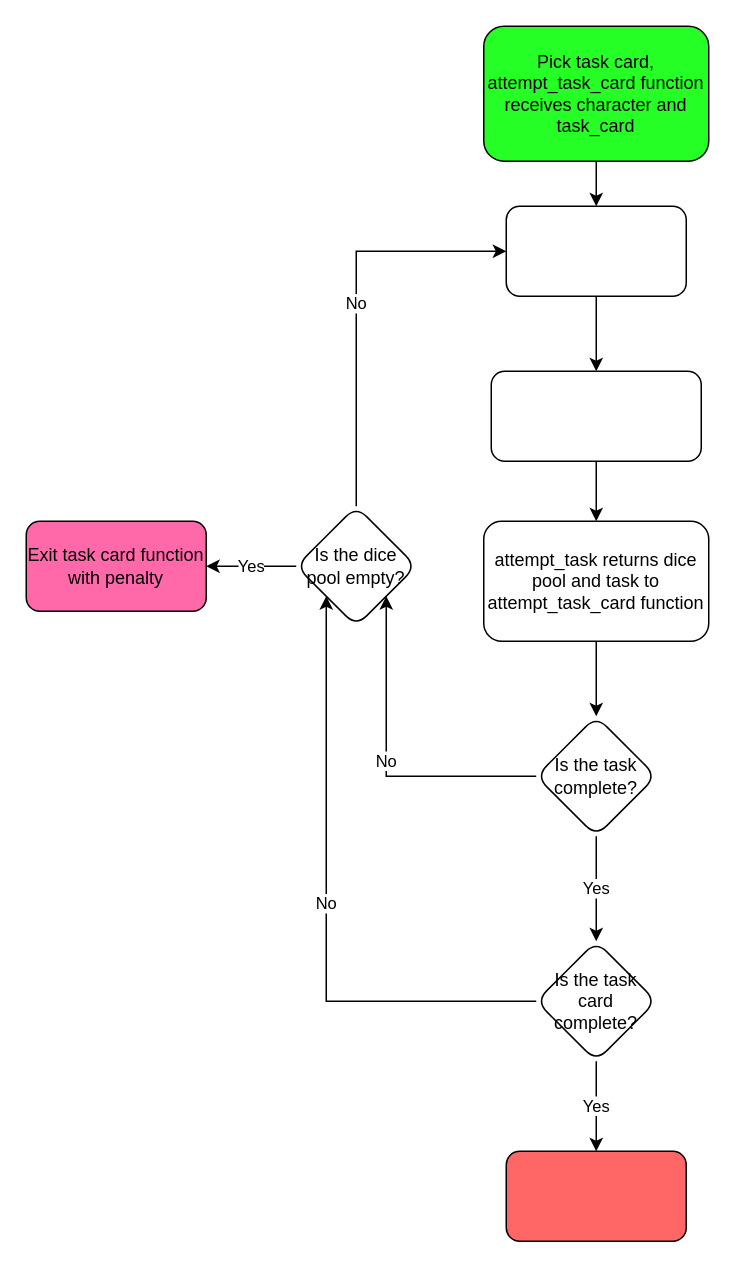
This 735x1268 diagram has some shape labels left out. Here are the shapes that lost their labels. From the top down, the centre of each, then its label:
(595,250): Roll dice_pool
(595,415): Pick task and attempt_task is passed dice_pool and task
(595,1195): Exit task card function with reward
